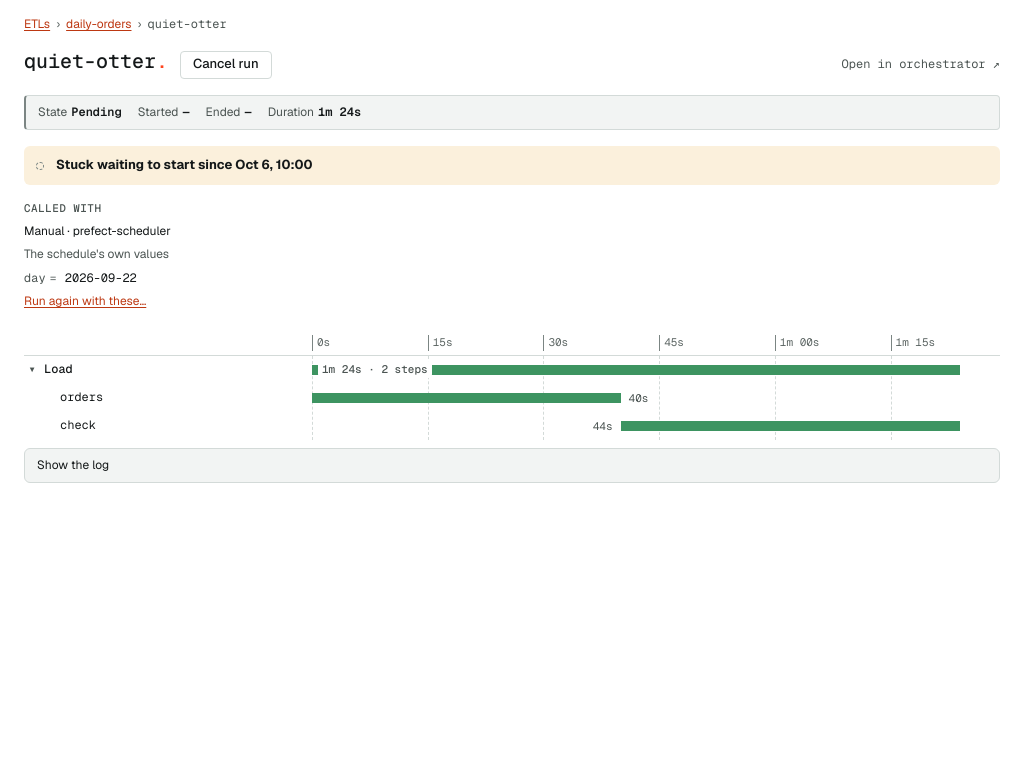
Test: RunPage cancel and retry › says a run that never started is cancelled at once
The image size is (1024, 768).
Click the button "Cancel run": (226,65) [180,51,272,79]
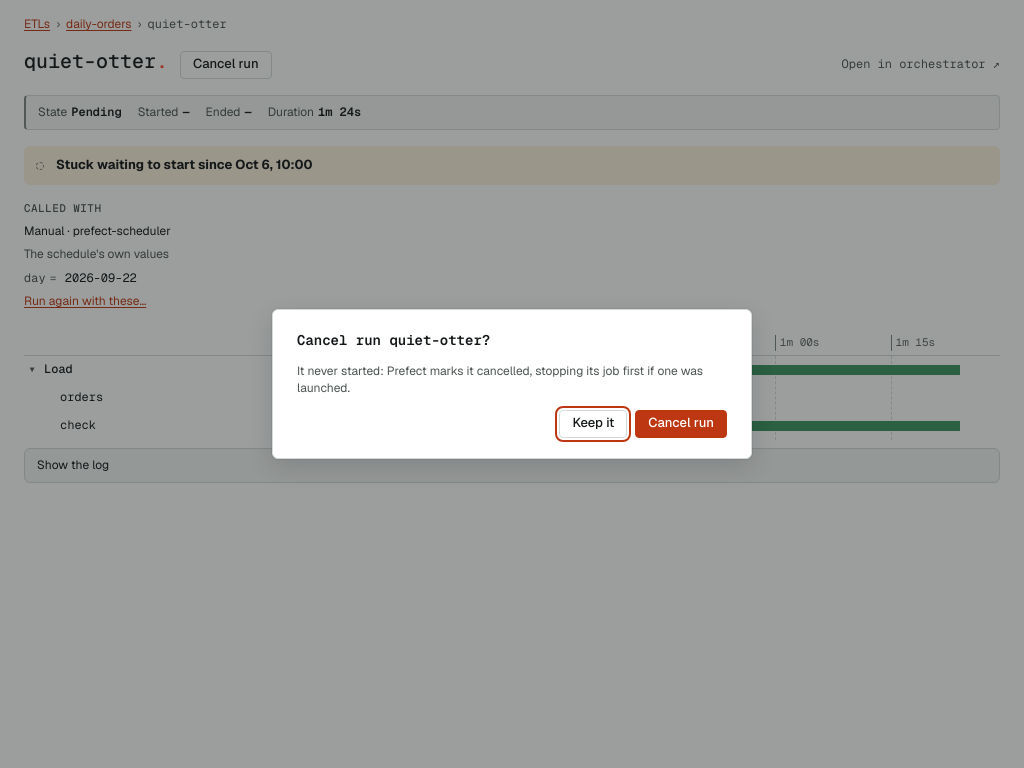
Now the dialog "Cancel run quiet-otter?" shows "It never started", box [297,363,703,396]
